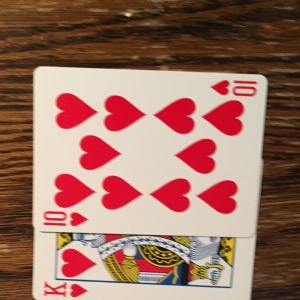card: (32, 66, 267, 234)
